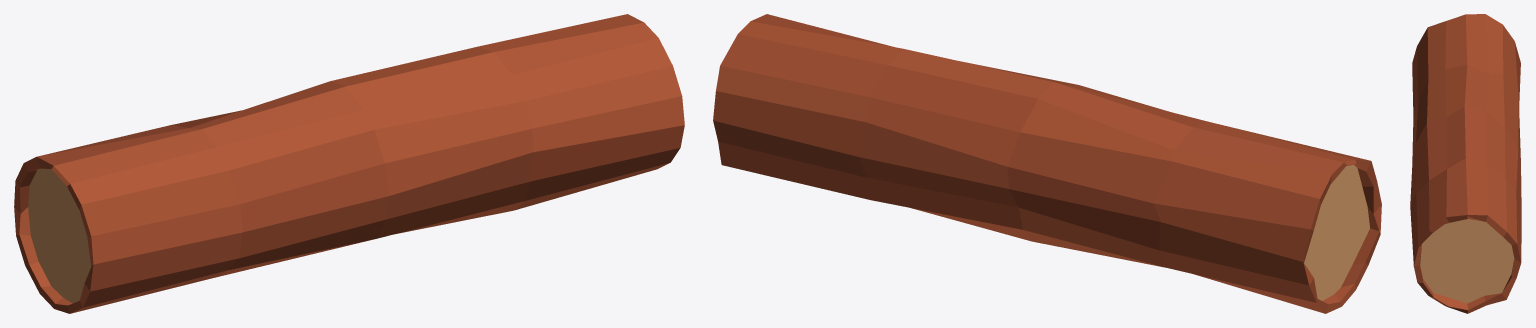
Rendered from smoltrunk.fbx.
3 views of the same model, side by side, from view 1: azimuth 30°, elevation 25°; view 2: azimuth 150°, elevation 25°; view 3: azimuth 270°, elevation 25° (orthographic). The views are drawn at different scales.
Parts seen in each view (by area): view 1: Cylinder.004; view 2: Cylinder.004; view 3: Cylinder.004.
Part boxes in pixels (x1,y1,x2,y2): Cylinder.004: (14, 14, 684, 313); Cylinder.004: (713, 14, 1381, 313); Cylinder.004: (1410, 14, 1521, 313).
Size of the model in its own units: 722 by 179 by 169.
